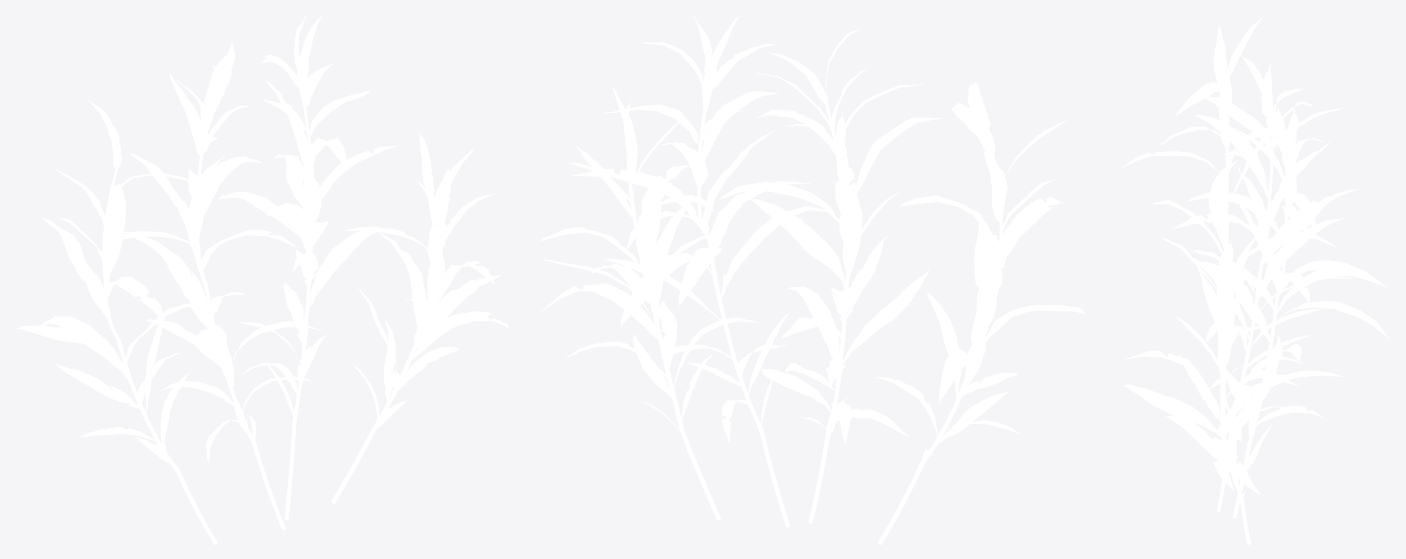
The picture shows the model from 3 angles, left to right: view 1: azimuth 30°, elevation 25°; view 2: azimuth 150°, elevation 25°; view 3: azimuth 270°, elevation 25°; orthographic projection. The views are drawn at different scales.
Visible parts, largest first — view 1: SM_GF_Red_Bush_01_B_LOD0; view 2: SM_GF_Red_Bush_01_B_LOD0; view 3: SM_GF_Red_Bush_01_B_LOD0.
Part boxes in pixels (box(x1,y1,x2,y2)): SM_GF_Red_Bush_01_B_LOD0: box(16, 14, 509, 544); SM_GF_Red_Bush_01_B_LOD0: box(540, 15, 1086, 544); SM_GF_Red_Bush_01_B_LOD0: box(1118, 15, 1390, 544).
Size of the model in its own units: 0.7911 by 0.7241 by 0.4141.
Materials: 1 (1 with a texture image).
